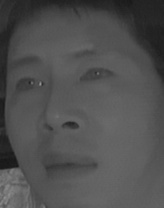eye: (10, 74, 51, 96), (77, 65, 117, 86)
mouth: (39, 143, 99, 185)
